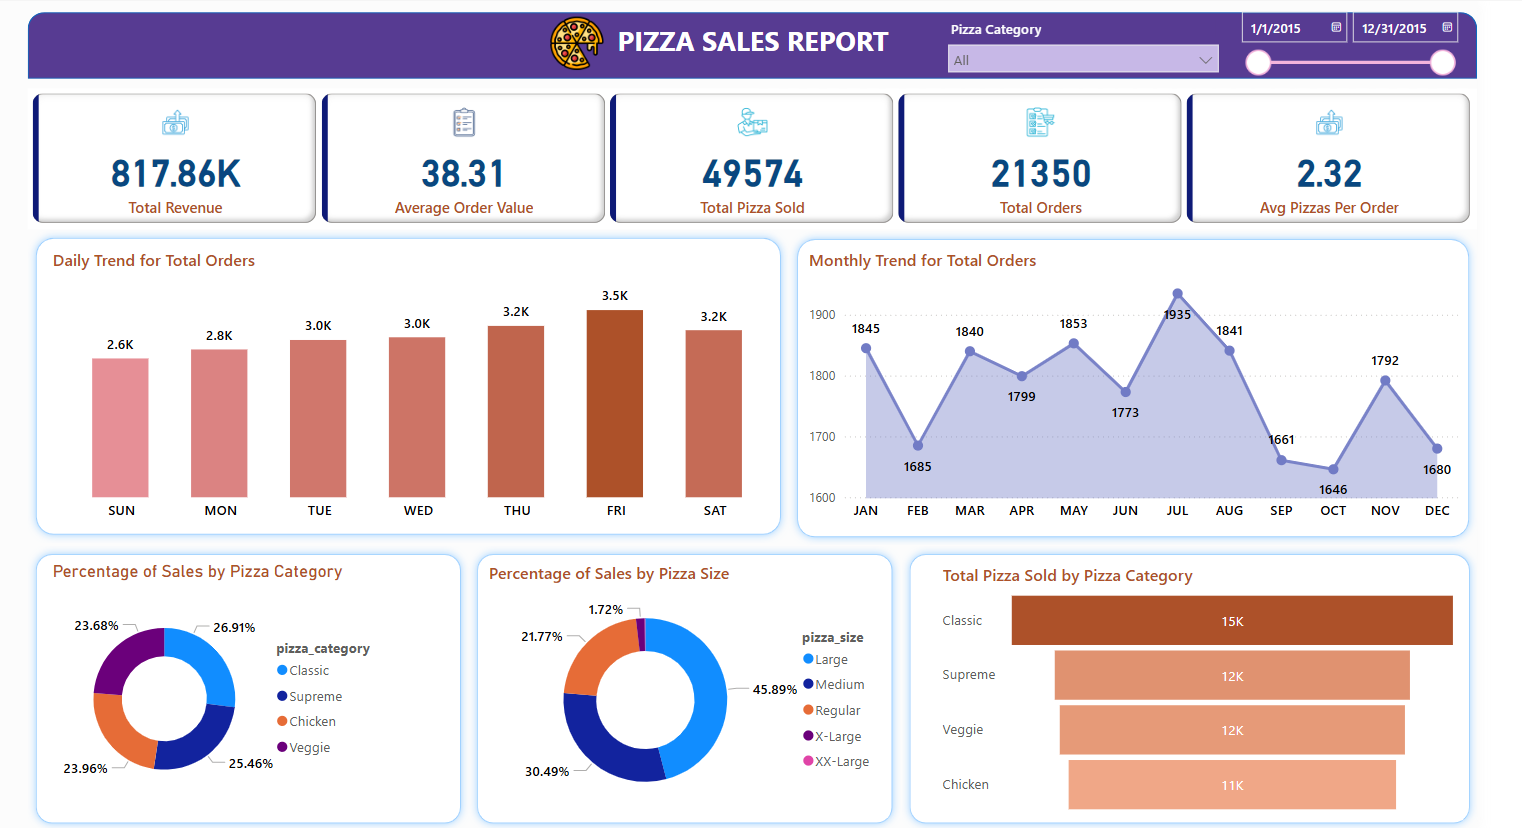

The page's visual inventory and layout, read from the dashboard file:
{"tool":"powerbi","page":{"name":"Page 1","canvas":[1500,820],"ordinal":0},"visuals":[{"type":"cardVisual","fields":{"Data":["pizza_sales.Total Revenue","pizza_sales.Average Order Value","pizza_sales.Total Pizza Sold","pizza_sales.Total Orders","pizza_sales.Avg Pizzas Per Order"]},"box":[68.1,85.8,1432.1,139],"z":0},{"type":"shape","box":[68.1,11.1,1431.9,65.7],"z":1000},{"type":"textbox","box":[641.8,16.4,284.8,53.1],"z":2000},{"type":"shape","box":[68.1,226.2,752.2,309.3],"z":3000},{"type":"columnChart","title":"Daily Trend for Total Orders ","fields":{"Category":["pizza_sales.Order Day"],"Y":["pizza_sales.Total Orders"]},"box":[87.2,243.9,733.1,278],"z":4000},{"type":"shape","box":[820.3,227.6,680,310.7],"z":5000},{"type":"areaChart","title":"Monthly Trend for Total Orders","fields":{"Category":["pizza_sales.Order Month"],"Y":["pizza_sales.Total Orders"]},"box":[835.3,243.9,651.3,278],"z":6000},{"type":"shape","box":[68.1,538.2,436,282.1],"z":7000},{"type":"shape","box":[504.2,538.2,426.5,282.1],"z":8000},{"type":"shape","box":[930.7,538.2,569.6,282.1],"z":9000},{"type":"donutChart","title":"Percentage of  Sales by Pizza Category","fields":{"Category":["pizza_sales.pizza_category"],"Y":["pizza_sales.Total Revenue"]},"box":[87.2,553.2,340.7,253.5],"z":10000},{"type":"donutChart","title":"Percentage of  Sales by Pizza Size","fields":{"Category":["pizza_sales.pizza_size"],"Y":["pizza_sales.Total Revenue"]},"box":[519.2,553.2,399.3,253.5],"z":11000},{"type":"funnel","title":"Total Pizza Sold by Pizza Category","fields":{"Y":["pizza_sales.Total Pizza Sold"],"Category":["pizza_sales.pizza_category"]},"box":[967.5,556,519.2,253.5],"z":12000},{"type":"slicer","fields":{"Values":["pizza_sales.order_date"]},"box":[1255,0,231.7,84.5],"z":13000},{"type":"slicer","fields":{"Values":["pizza_sales.pizza_category"]},"box":[967.5,13.6,287.5,62.7],"z":14000},{"type":"image","box":[579.1,6.8,62.7,69.5],"z":14001}]}

Visuals, with their boxes in screenshot pixels (x1, y1, x2, y2), scaled from the page's 1500x820 canvas onto the 1522x828 screenshot:
cardVisual - pizza_sales.Total Revenue x pizza_sales.Average Order Value: detection(69, 87, 1521, 227)
shape: detection(69, 11, 1521, 78)
textbox: detection(651, 17, 940, 70)
shape: detection(69, 228, 832, 541)
"Daily Trend for Total Orders " columnChart: detection(88, 246, 832, 527)
shape: detection(832, 230, 1521, 544)
"Monthly Trend for Total Orders" areaChart: detection(848, 246, 1508, 527)
shape: detection(69, 543, 511, 827)
shape: detection(512, 543, 944, 827)
shape: detection(944, 543, 1521, 827)
"Percentage of  Sales by Pizza Category" donutChart: detection(88, 559, 434, 815)
"Percentage of  Sales by Pizza Size" donutChart: detection(527, 559, 932, 815)
"Total Pizza Sold by Pizza Category" funnel: detection(982, 561, 1509, 817)
slicer - pizza_sales.order_date: detection(1273, 0, 1509, 85)
slicer - pizza_sales.pizza_category: detection(982, 14, 1273, 77)
image: detection(588, 7, 651, 77)
